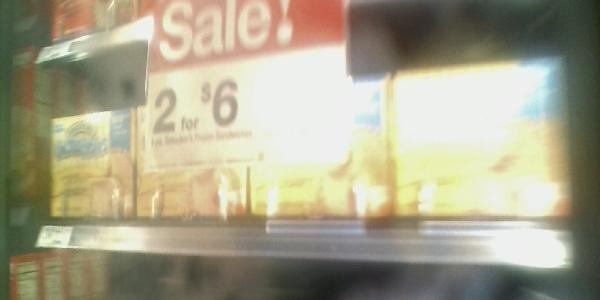icecream: (394, 56, 578, 219), (249, 74, 394, 219), (138, 95, 246, 217), (47, 105, 136, 220)
